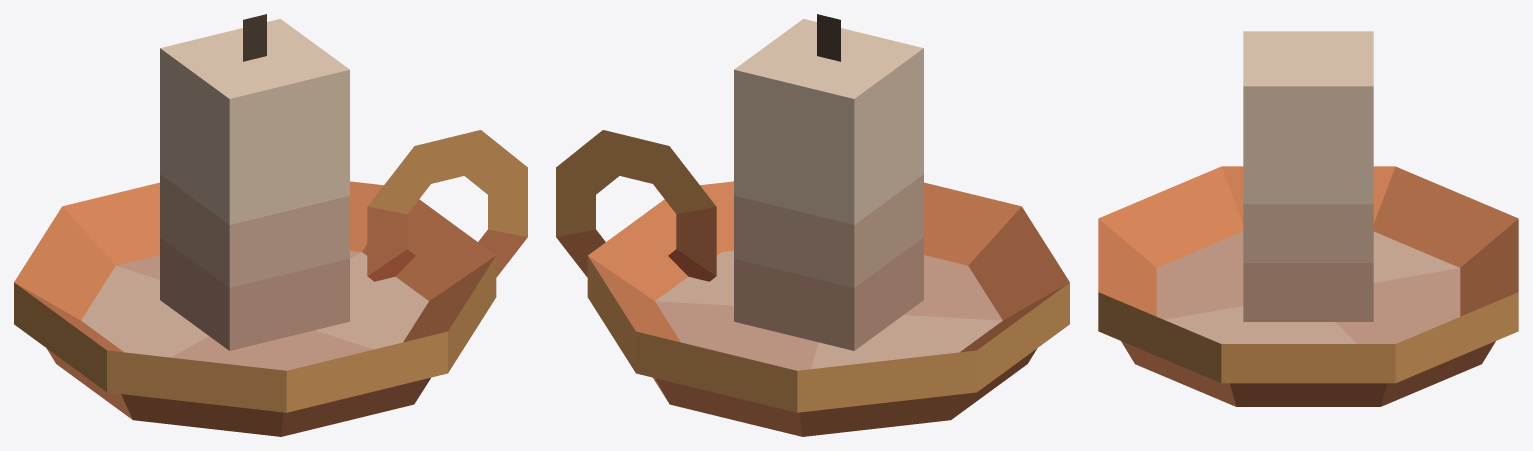
Rendered from candle1.fbx.
3 views of the same model, side by side, from view 1: azimuth 30°, elevation 25°; view 2: azimuth 150°, elevation 25°; view 3: azimuth 270°, elevation 25° (orthographic). The views are drawn at different scales.
Parts seen in each view (by area): view 1: cylinder, mesh, circle, plane; view 2: cylinder, mesh, circle, plane; view 3: cylinder, mesh.
Part boxes in pixels (x1,y1,x2,y2): cylinder: [14, 181, 496, 436]; mesh: [160, 19, 349, 350]; circle: [367, 130, 527, 281]; plane: [243, 14, 266, 61]; cylinder: [587, 181, 1069, 436]; mesh: [734, 19, 923, 350]; circle: [556, 130, 716, 281]; plane: [817, 14, 840, 61]; cylinder: [1098, 166, 1518, 406]; mesh: [1243, 31, 1373, 321].
Bounding box in the file's own units: 36.4 × 25 × 30.3.
Materials: 1 (1 with a texture image).
